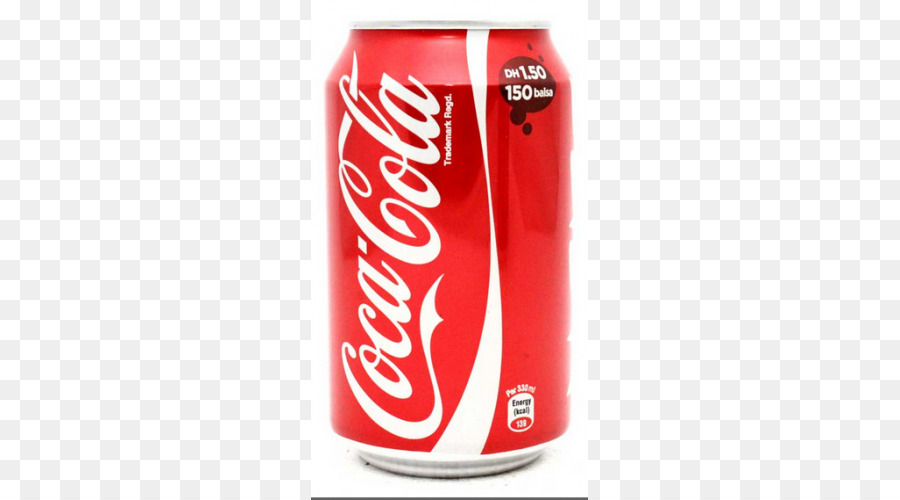coke: (321, 20, 572, 482)
